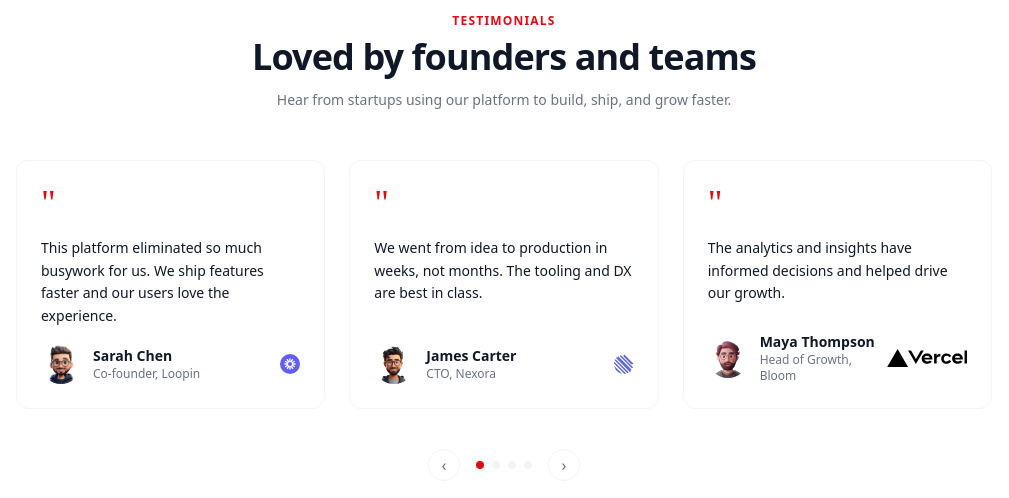
Test: Carousel › next button changes visible testimonial
Click the button "›": (564, 465) [548, 449, 580, 481]
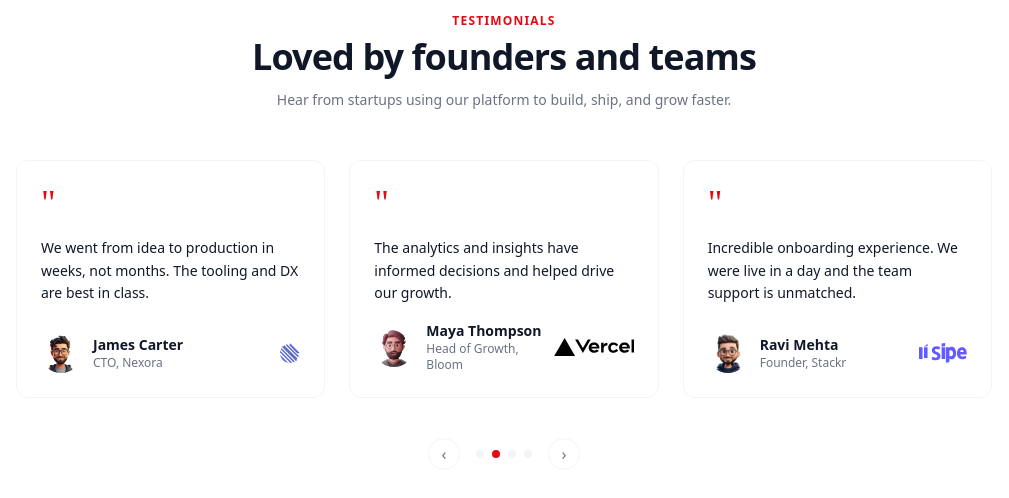
Check: the text "We went from idea to production in weeks, not months. The tooling and DX are best in class." is shown, box [41, 238, 298, 302]
